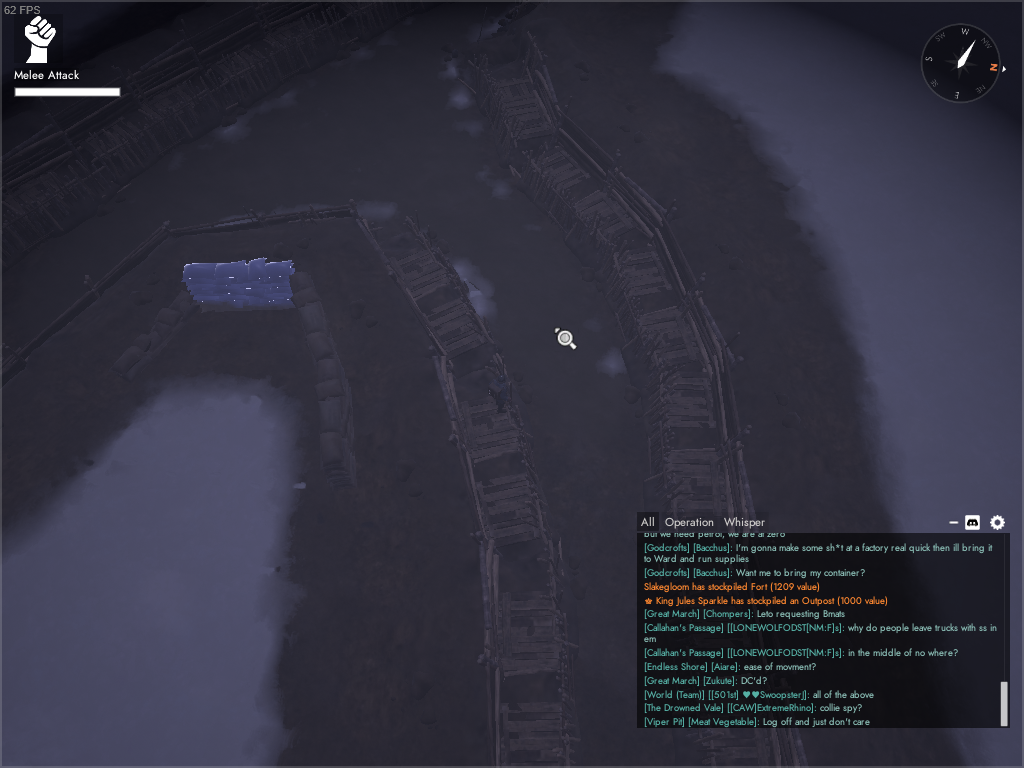player: (487, 375, 510, 415)
sandbag: (114, 290, 198, 378), (313, 359, 358, 488), (181, 258, 296, 308), (291, 271, 340, 373)
